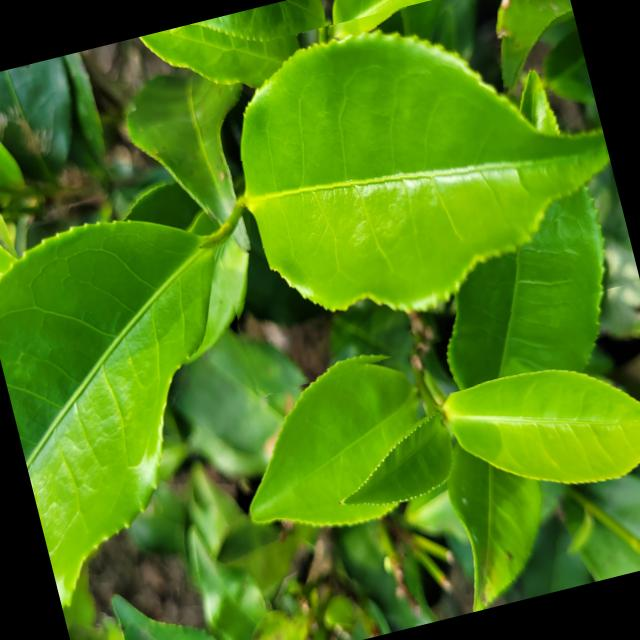Category B(2-4 days): (168, 0, 640, 399)
